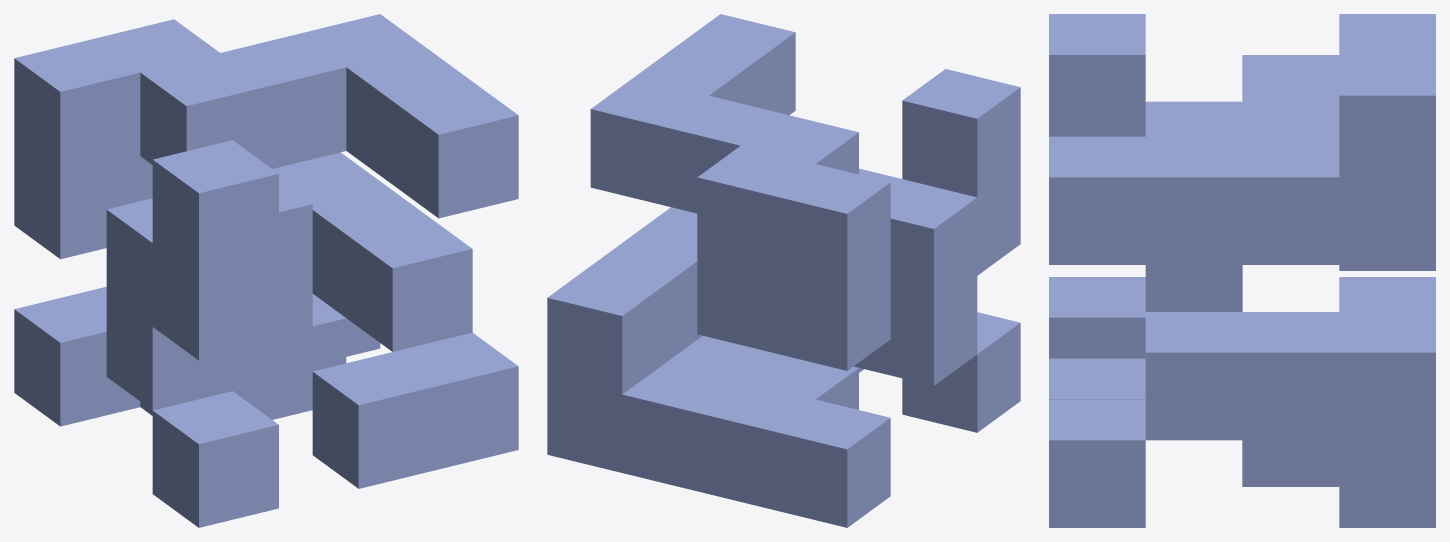
The picture shows the model from 3 angles, left to right: view 1: azimuth 30°, elevation 25°; view 2: azimuth 150°, elevation 25°; view 3: azimuth 270°, elevation 25°; orthographic projection. The views are drawn at different scales.
Parts seen in each view (by area): view 1: _changes.013; view 2: _changes.013; view 3: _changes.013.
Part boxes in pixels (<box>): _changes.013: <box>14,14,518,527</box>; _changes.013: <box>547,14,1020,527</box>; _changes.013: <box>1049,14,1435,527</box>.
Bounding box in the file's own units: 0.1041 × 0.1041 × 0.1041.
